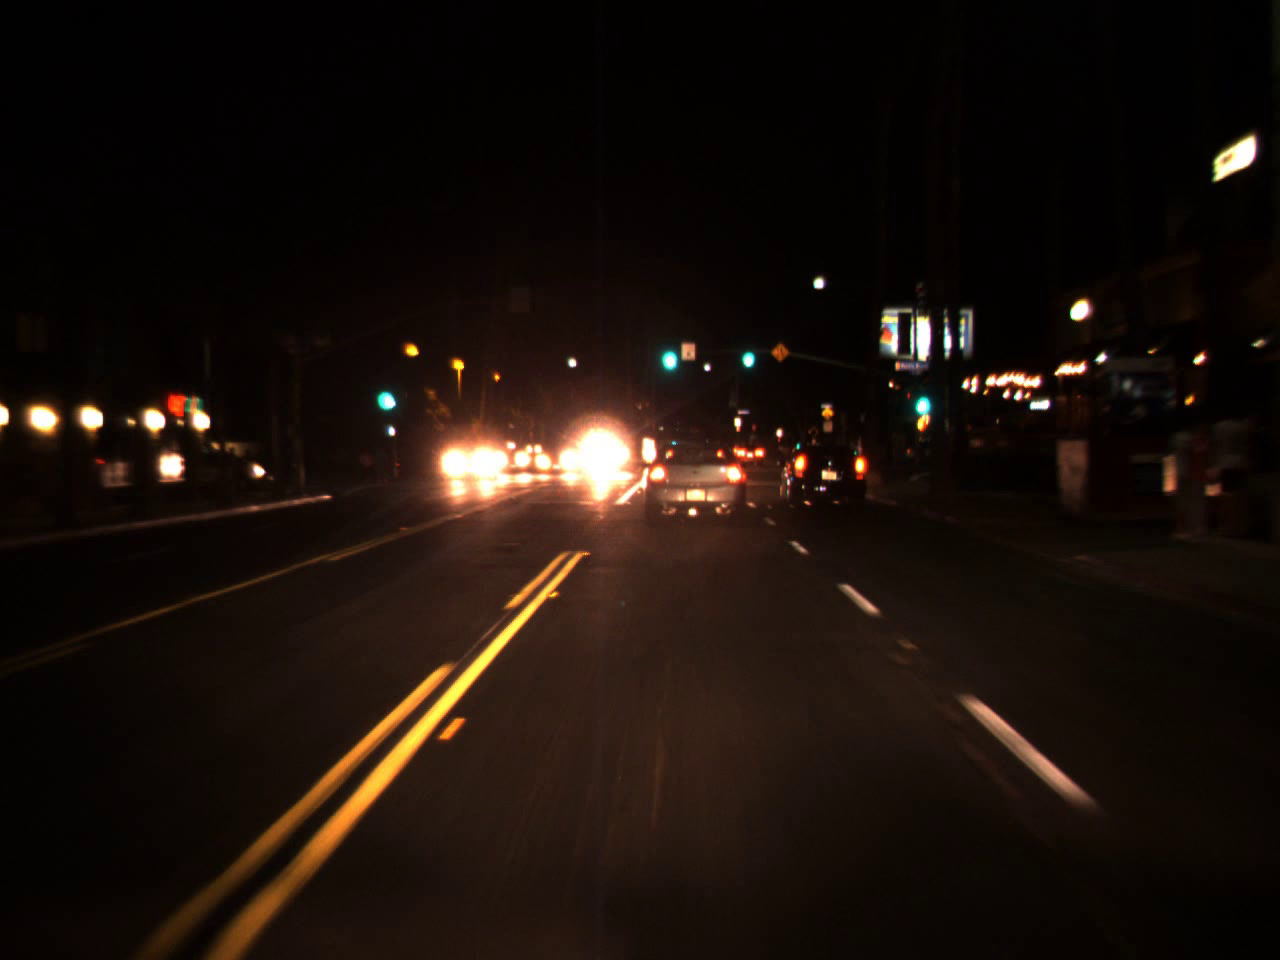go: (656, 326, 681, 377), (372, 369, 397, 417), (909, 374, 934, 422), (739, 336, 757, 369)
